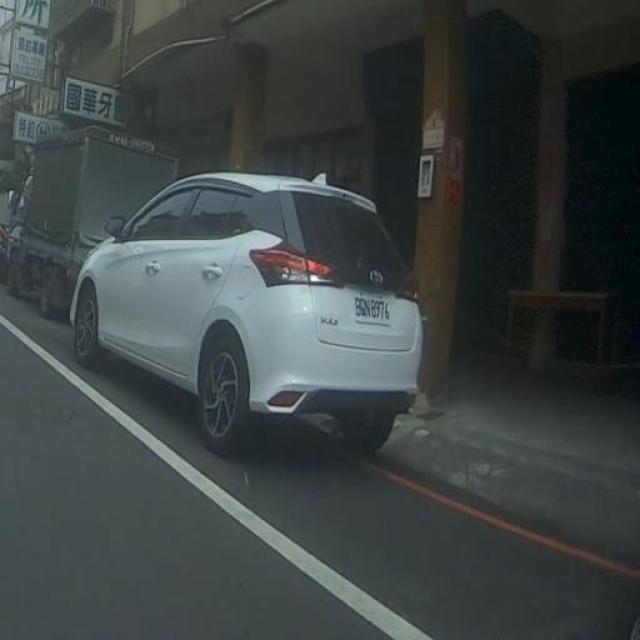illegalparking: (70, 172, 425, 455)
